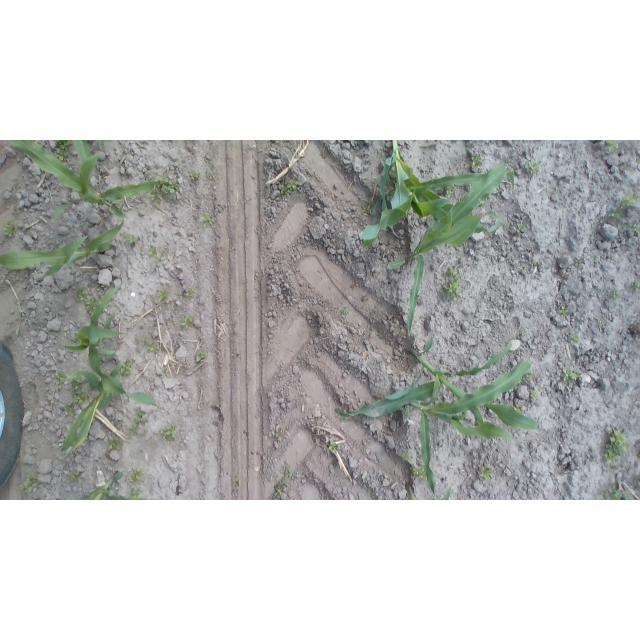Maize: (386, 165, 514, 340), (405, 361, 540, 500), (335, 336, 512, 425), (361, 140, 506, 248), (57, 284, 161, 409), (10, 140, 161, 218), (0, 208, 124, 277), (61, 362, 123, 458), (79, 472, 146, 501), (404, 482, 416, 500), (440, 486, 451, 500)
Weeds: (604, 430, 629, 466), (273, 461, 294, 499), (444, 264, 460, 302), (128, 406, 148, 436), (598, 484, 634, 500), (70, 378, 91, 404), (157, 175, 181, 194), (19, 475, 42, 494), (52, 140, 72, 160), (159, 422, 178, 443), (562, 365, 580, 383), (281, 180, 300, 197), (4, 221, 21, 239), (122, 232, 141, 247), (620, 195, 639, 210), (525, 159, 541, 176), (359, 198, 374, 215), (129, 468, 143, 485), (120, 358, 132, 377), (107, 437, 123, 451), (574, 254, 590, 267), (74, 285, 87, 301), (150, 188, 162, 205), (69, 469, 83, 483), (200, 213, 214, 227), (480, 466, 493, 481), (558, 305, 571, 319), (329, 440, 342, 453), (471, 156, 484, 169), (182, 316, 195, 329), (158, 288, 170, 302), (605, 140, 619, 152), (84, 297, 96, 311), (608, 208, 623, 219), (147, 340, 159, 353), (401, 449, 412, 463), (65, 402, 76, 416), (54, 370, 64, 385), (629, 278, 640, 291), (417, 467, 427, 481), (128, 487, 140, 498), (189, 169, 202, 179), (611, 289, 622, 300), (513, 404, 525, 414), (515, 223, 525, 234), (148, 246, 159, 256), (410, 464, 419, 476), (570, 334, 579, 345), (70, 331, 79, 342), (197, 351, 206, 362), (185, 290, 197, 298), (350, 281, 359, 291), (360, 295, 371, 303), (341, 306, 350, 315), (113, 200, 123, 208), (160, 367, 168, 377), (526, 373, 534, 381), (275, 430, 282, 439), (446, 188, 455, 195), (530, 390, 537, 399), (634, 223, 640, 233), (332, 461, 339, 468), (215, 400, 221, 408), (599, 319, 605, 327), (520, 331, 527, 337), (142, 429, 149, 435), (368, 488, 373, 496), (206, 170, 211, 178), (578, 354, 586, 359), (233, 476, 239, 482), (379, 333, 385, 339), (550, 188, 556, 194), (530, 262, 537, 267), (609, 468, 615, 473), (101, 286, 107, 291), (142, 337, 146, 344), (88, 311, 94, 315), (205, 462, 209, 467), (56, 389, 60, 394), (46, 387, 49, 391)
